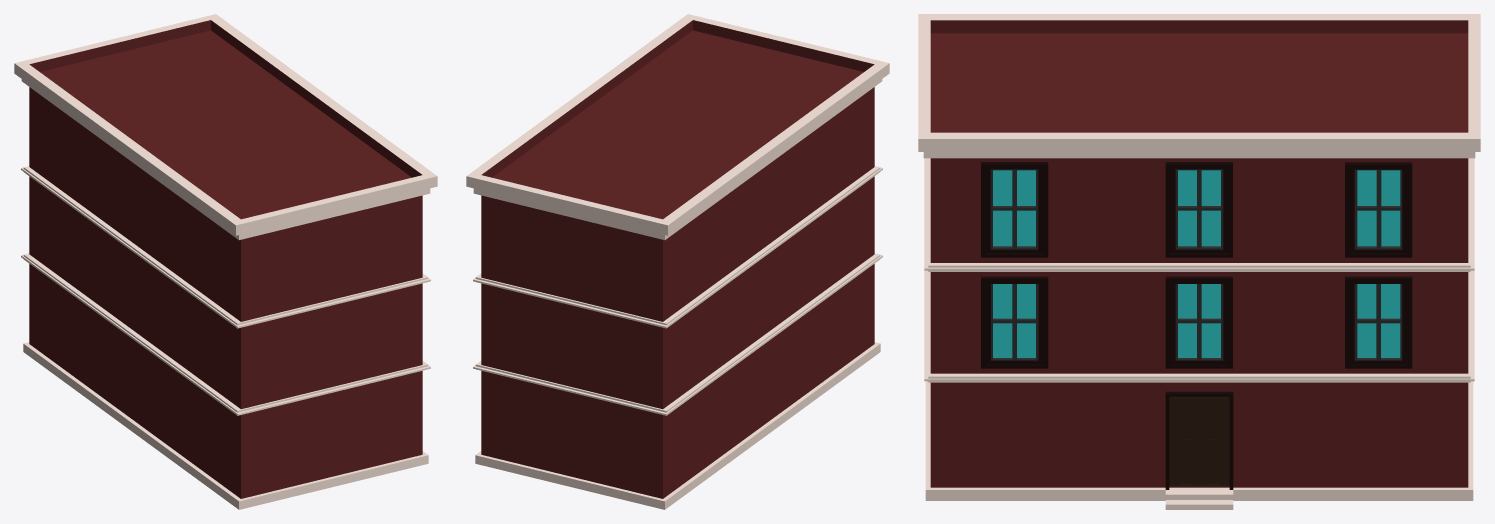
File: PropBuilding_1.fbx
3 renders of one model, left to right at view 1: azimuth 30°, elevation 25°; view 2: azimuth 150°, elevation 25°; view 3: azimuth 270°, elevation 25°, orthographic. The views are drawn at different scales.
Visible parts, largest first — view 1: PropBuilding1_Body; view 2: PropBuilding1_Body; view 3: PropBuilding1_Body, PropBuilding1_Door, PropBuilding1_Window, PropBuilding1_Window.001, PropBuilding1_Window.002, PropBuilding1_Window.004, PropBuilding1_Window.003, PropBuilding1_Window.005.
Part boxes in pixels (bbox=[...]): PropBuilding1_Body: bbox=[14, 14, 437, 509]; PropBuilding1_Body: bbox=[466, 14, 889, 509]; PropBuilding1_Body: bbox=[918, 14, 1480, 509]; PropBuilding1_Door: bbox=[1169, 396, 1229, 487]; PropBuilding1_Window: bbox=[990, 169, 1038, 249]; PropBuilding1_Window.001: bbox=[1175, 169, 1223, 249]; PropBuilding1_Window.002: bbox=[1355, 169, 1402, 249]; PropBuilding1_Window.004: bbox=[1175, 284, 1223, 360]; PropBuilding1_Window.003: bbox=[991, 284, 1038, 360]; PropBuilding1_Window.005: bbox=[1355, 284, 1402, 360].
Size of the model in its own units: 1530 by 2002 by 2791.
3 materials, 3 textured.
